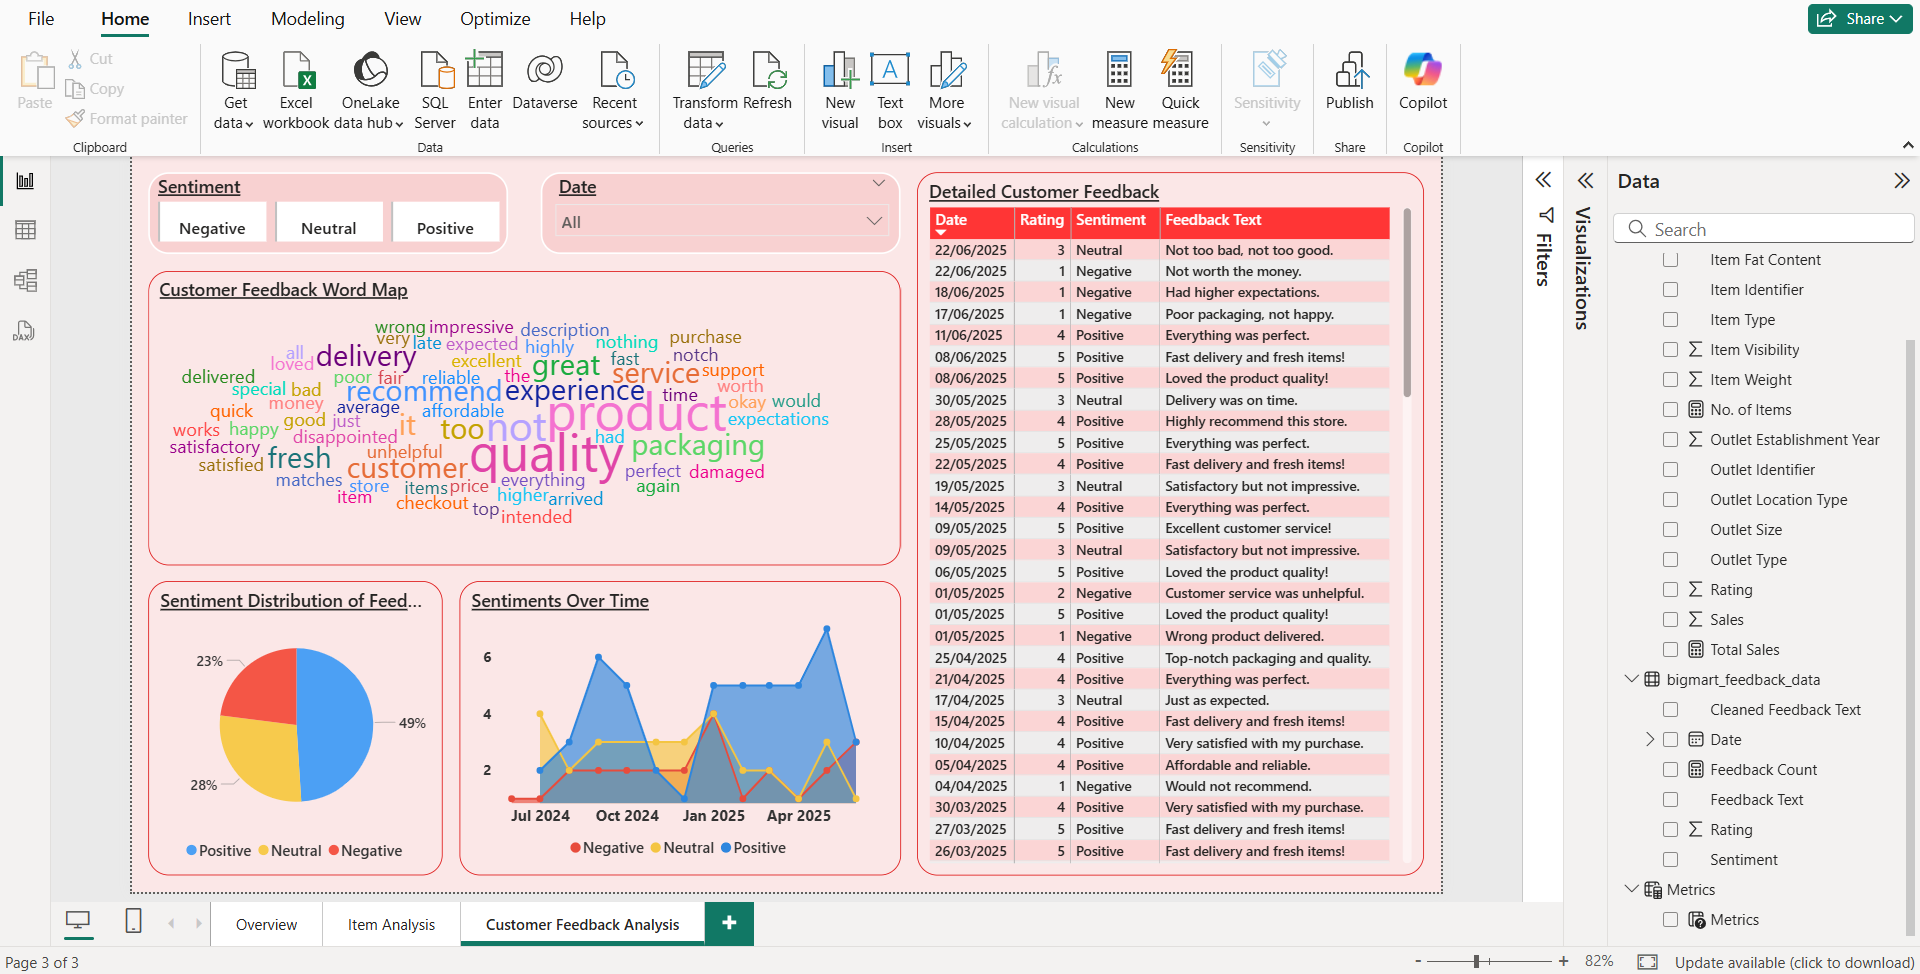

This screenshot's page, from the dashboard's own definition file:
{"tool":"powerbi","page":{"name":"Customer Feedback Analysis","canvas":[1280,720],"ordinal":2},"visuals":[{"type":"tableEx","title":"Detailed Customer Feedback","fields":{"Values":["bigmart_feedback_data.Date","Sum(bigmart_feedback_data.Rating)","bigmart_feedback_data.Sentiment","bigmart_feedback_data.Feedback Text"]},"box":[768,16,496,688],"z":0},{"type":"WordCloud1447959067750","title":"Customer Feedback Word Map","fields":{"Category":["bigmart_feedback_data.Custom Text"]},"box":[16,112,736,288],"z":2000},{"type":"advancedSlicerVisual","fields":{"Values":["bigmart_feedback_data.Sentiment"]},"box":[16,16,352,80],"z":3000},{"type":"slicer","fields":{"Values":["bigmart_feedback_data.Date"]},"box":[400,16,352,80],"z":4000},{"type":"lineChart","title":"Sentiments Over Time","fields":{"Series":["bigmart_feedback_data.Sentiment"],"Y":["bigmart_feedback_data.Feedback Count"],"Category":["bigmart_feedback_data.Date.Variation.Date Hierarchy.Year","bigmart_feedback_data.Date.Variation.Date Hierarchy.Month"]},"box":[320,416,432,288],"z":5000},{"type":"pieChart","title":"Sentiment Distribution of Feedback","fields":{"Category":["bigmart_feedback_data.Sentiment"],"Y":["bigmart_feedback_data.Feedback Count"]},"box":[16,416,288,288],"z":6000}]}

Visuals, with their boxes on the page's 1280x720 design canvas (x1, y1, x2, y2). These are canvas units, not pixel positions in the 1920x974 screenshot, which may show the page scaled, cropped or inside an application window:
"Detailed Customer Feedback" tableEx: Rect(768, 16, 1264, 704)
"Customer Feedback Word Map" WordCloud1447959067750: Rect(16, 112, 752, 400)
advancedSlicerVisual - bigmart_feedback_data.Sentiment: Rect(16, 16, 368, 96)
slicer - bigmart_feedback_data.Date: Rect(400, 16, 752, 96)
"Sentiments Over Time" lineChart: Rect(320, 416, 752, 704)
"Sentiment Distribution of Feedback" pieChart: Rect(16, 416, 304, 704)
